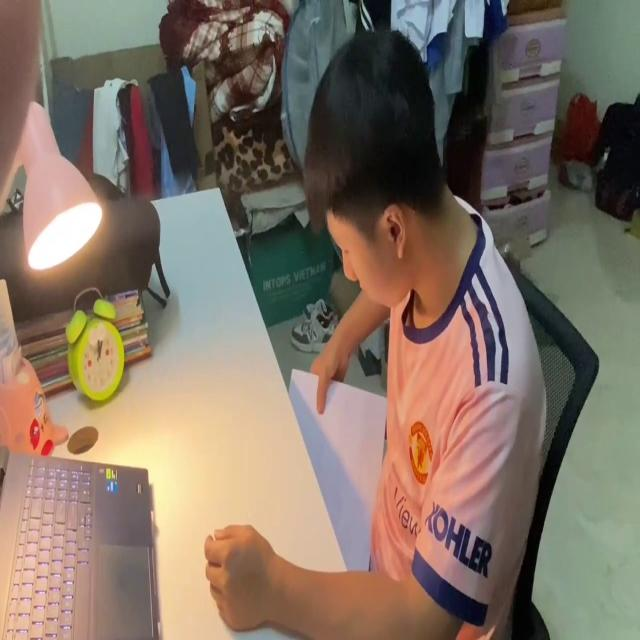book: (286, 362, 392, 588)
laptop: (0, 445, 162, 639)
student: (197, 28, 549, 640)
